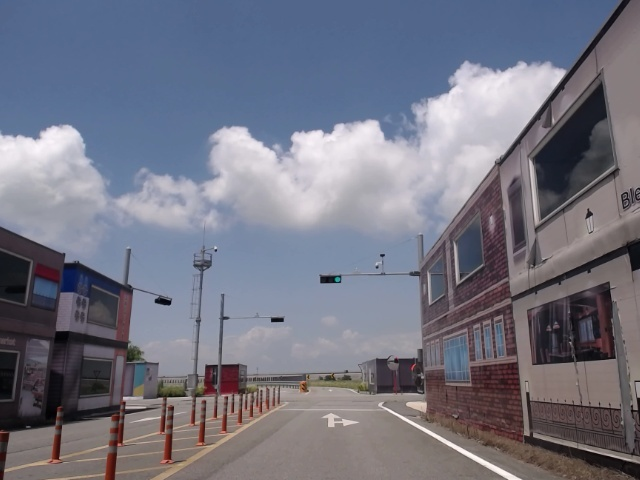green_3: (321, 275, 341, 282)
